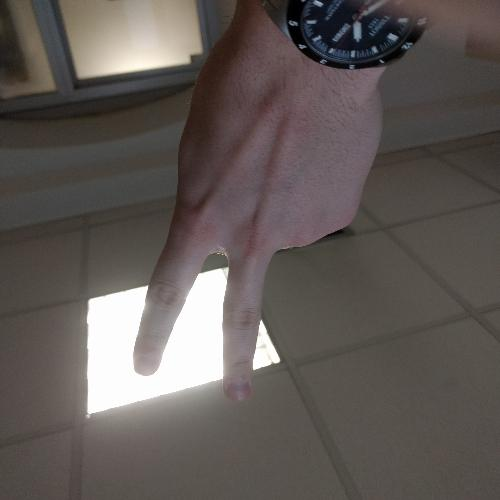scissors: (120, 30, 390, 408)
